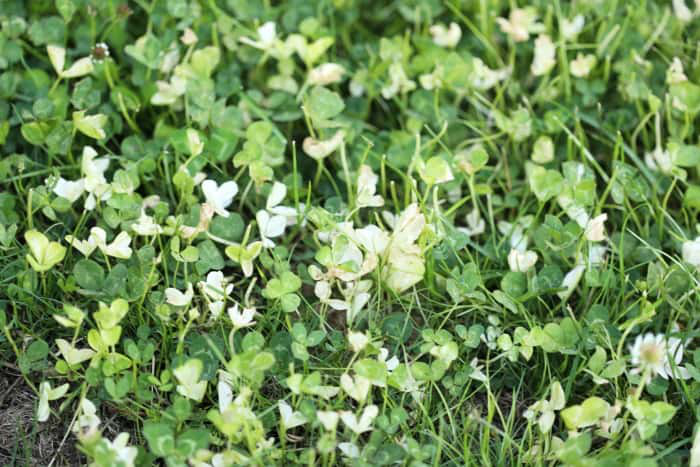clover: (6, 6, 696, 459)
